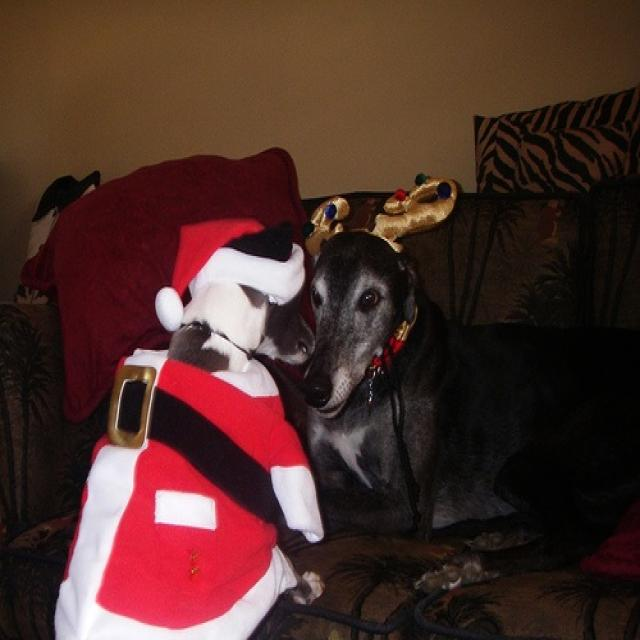dog: (302, 232, 639, 591), (63, 217, 325, 638)
sofa: (2, 190, 638, 638)
